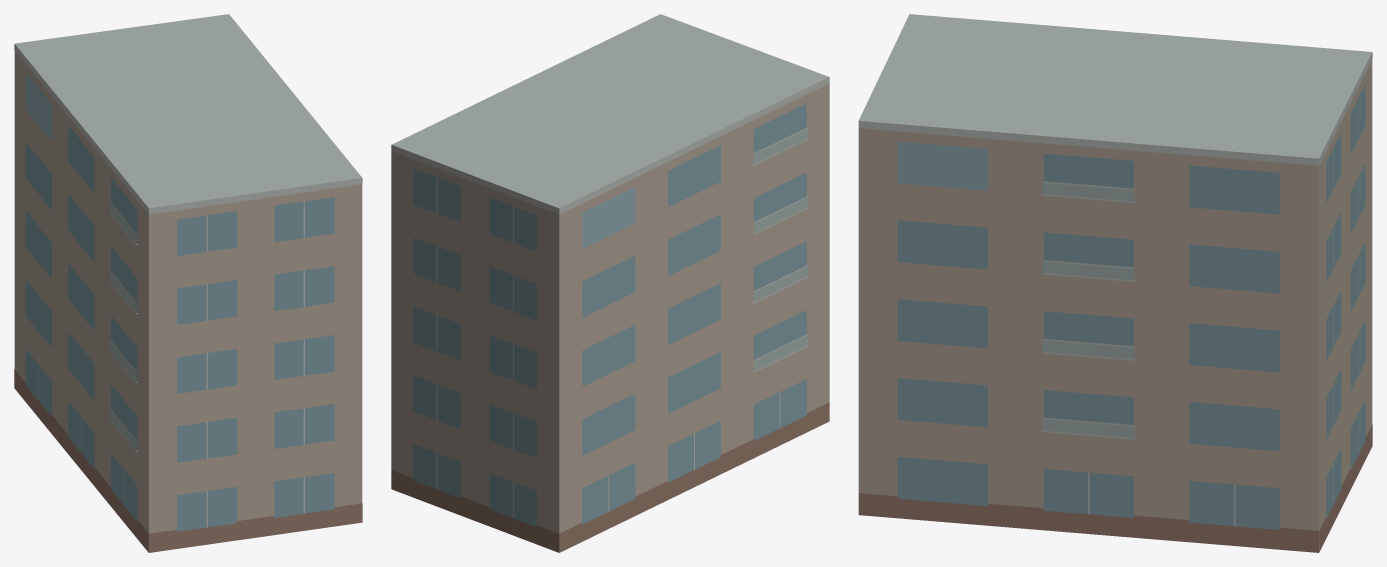
File: survey-upis-32885883.glb
The picture shows the model from 3 angles, left to right: view 1: azimuth 30°, elevation 25°; view 2: azimuth 150°, elevation 25°; view 3: azimuth 270°, elevation 25°; orthographic projection. The views are drawn at different scales.
Parts seen in each view (by area): view 1: survey-upis-32885883.tmp; view 2: survey-upis-32885883.tmp; view 3: survey-upis-32885883.tmp.
Part boxes in pixels (x1,y1,x2,y2): survey-upis-32885883.tmp: (14, 14, 362, 552); survey-upis-32885883.tmp: (391, 14, 829, 552); survey-upis-32885883.tmp: (858, 14, 1372, 552).
Size of the model in its own units: 10.4 by 13.2 by 15.61.
